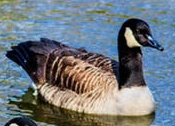goose: (3, 13, 168, 122)
